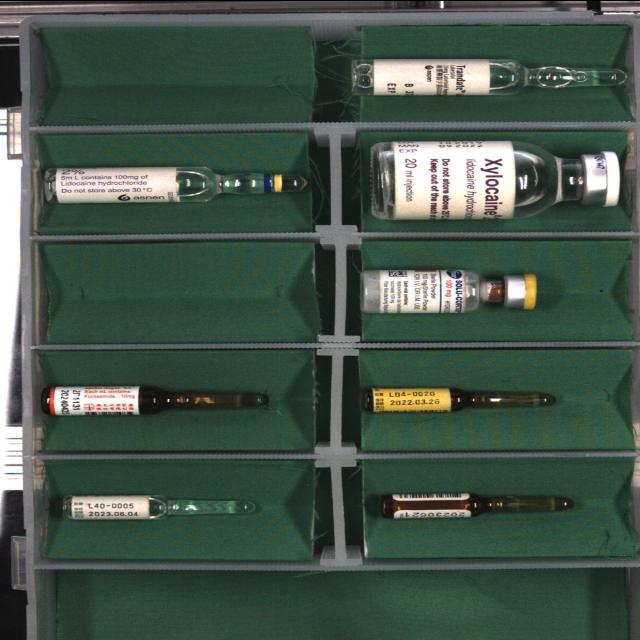Vials: (371, 140, 620, 219), (361, 269, 538, 312)
